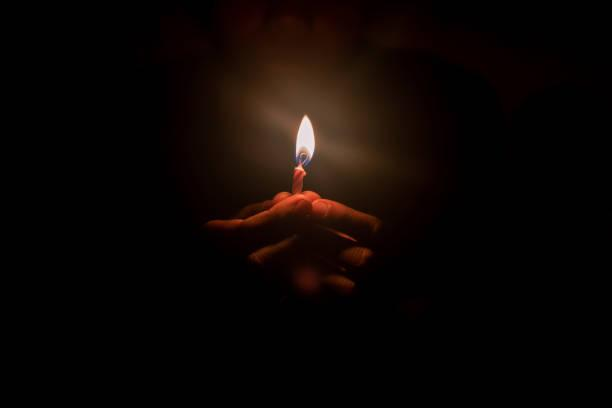Fire: (286, 109, 328, 167)
